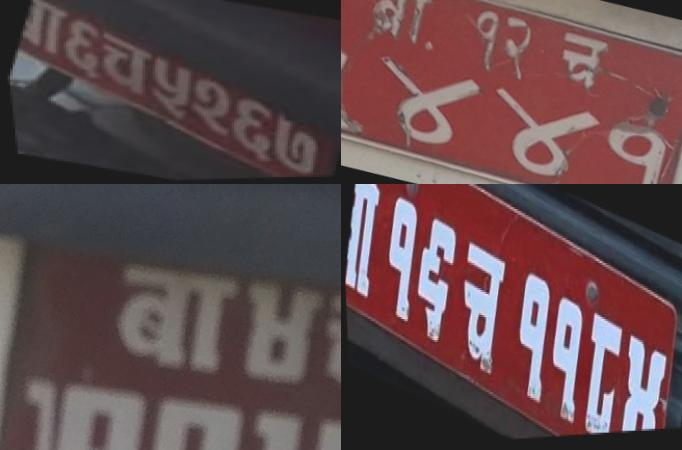1: (115, 379, 259, 450), (500, 266, 560, 410), (536, 293, 596, 437), (372, 187, 430, 331), (581, 112, 678, 184), (452, 2, 512, 80)
2: (172, 76, 244, 141), (485, 12, 544, 89)
4: (214, 274, 333, 403), (468, 77, 608, 184), (356, 48, 488, 161), (215, 392, 341, 450), (607, 330, 674, 436)
5: (124, 54, 206, 124), (341, 25, 380, 143)
6: (406, 207, 466, 355), (206, 95, 287, 168), (45, 18, 115, 82)
7: (0, 352, 165, 450), (250, 114, 330, 179)
8: (571, 312, 629, 438)
ba: (88, 242, 249, 388), (341, 184, 391, 304), (357, 0, 440, 58), (10, 0, 79, 56)
cha: (446, 232, 522, 384), (79, 30, 162, 99), (541, 26, 615, 102), (300, 283, 341, 412)
